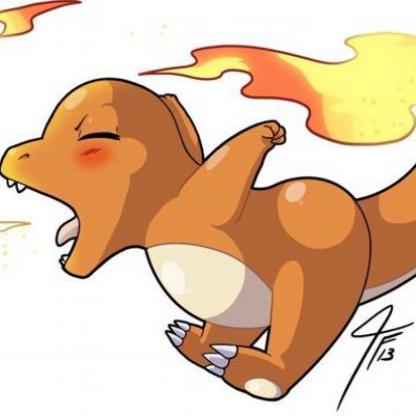Charmander: (13, 20, 416, 399)
